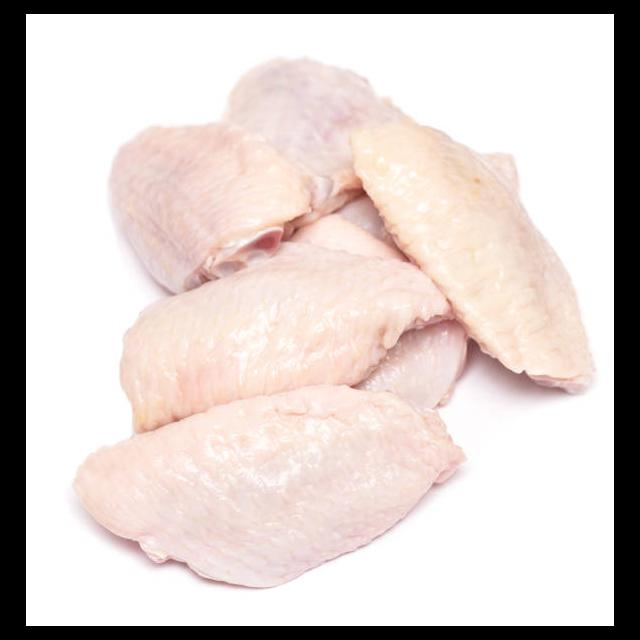chicken: (69, 322, 476, 577), (115, 188, 482, 434), (343, 107, 597, 394), (112, 59, 404, 294)
